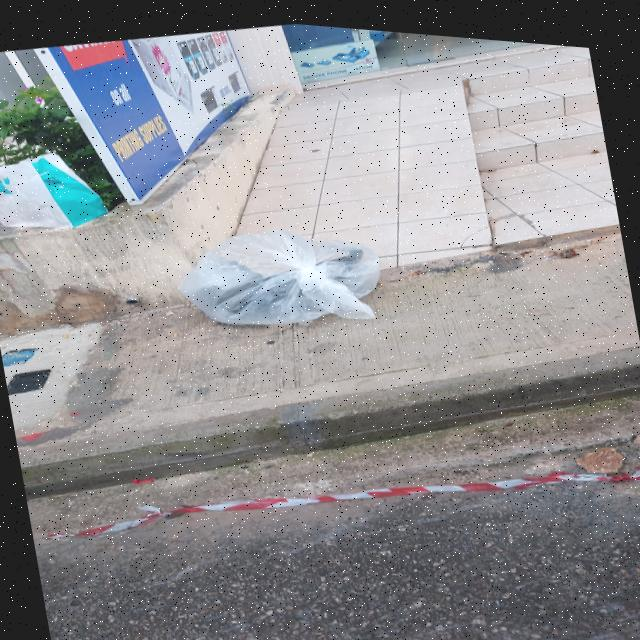Organic Waste -White Bag-: (180, 204, 394, 349)
